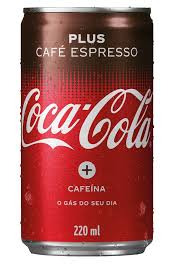coke-can-espresso: (14, 1, 159, 259)
